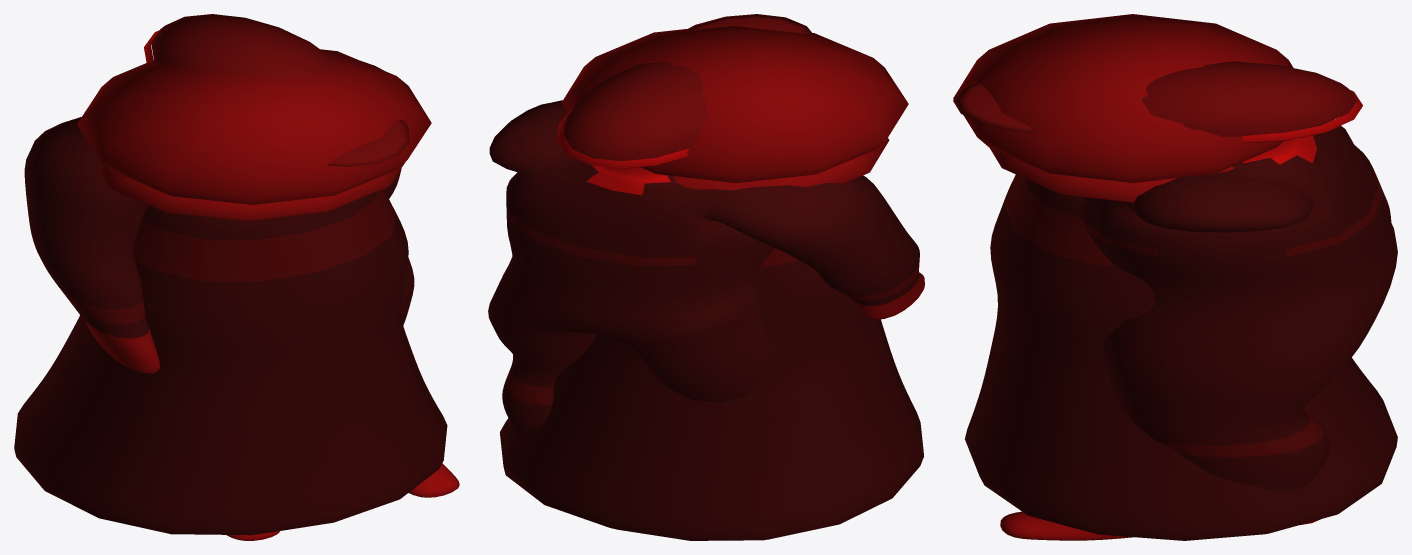
3 renders of one model, left to right at view 1: azimuth 30°, elevation 25°; view 2: azimuth 150°, elevation 25°; view 3: azimuth 270°, elevation 25°, orthographic. The views are drawn at different scales.
Parts seen in each view (by area): view 1: marshal_arm, marshal_body; view 2: marshal_arm, marshal_body; view 3: marshal_arm, marshal_body.
Part boxes in pixels (x1,y1,x2,y2): marshal_arm: [14, 49, 447, 535]; marshal_body: [24, 14, 459, 540]; marshal_arm: [500, 26, 923, 540]; marshal_body: [488, 14, 924, 433]; marshal_arm: [953, 14, 1397, 540]; marshal_body: [953, 61, 1397, 540].
Size of the model in its own units: 65534 by 65534 by 65534.
